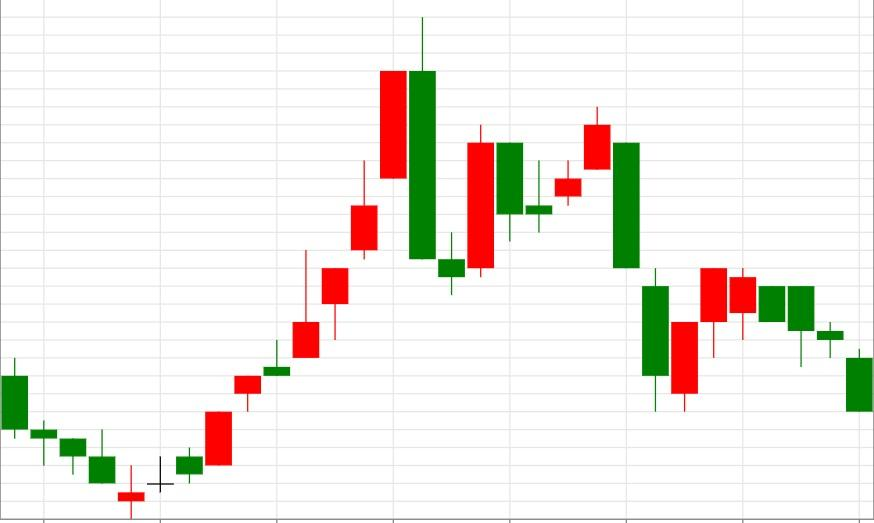bearish_engulfing_fall: (117, 16, 437, 519)
